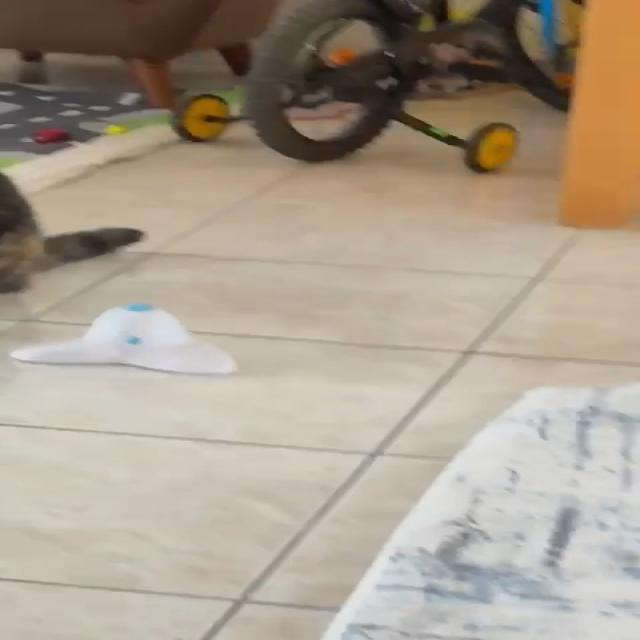authorized: (0, 170, 144, 294)
